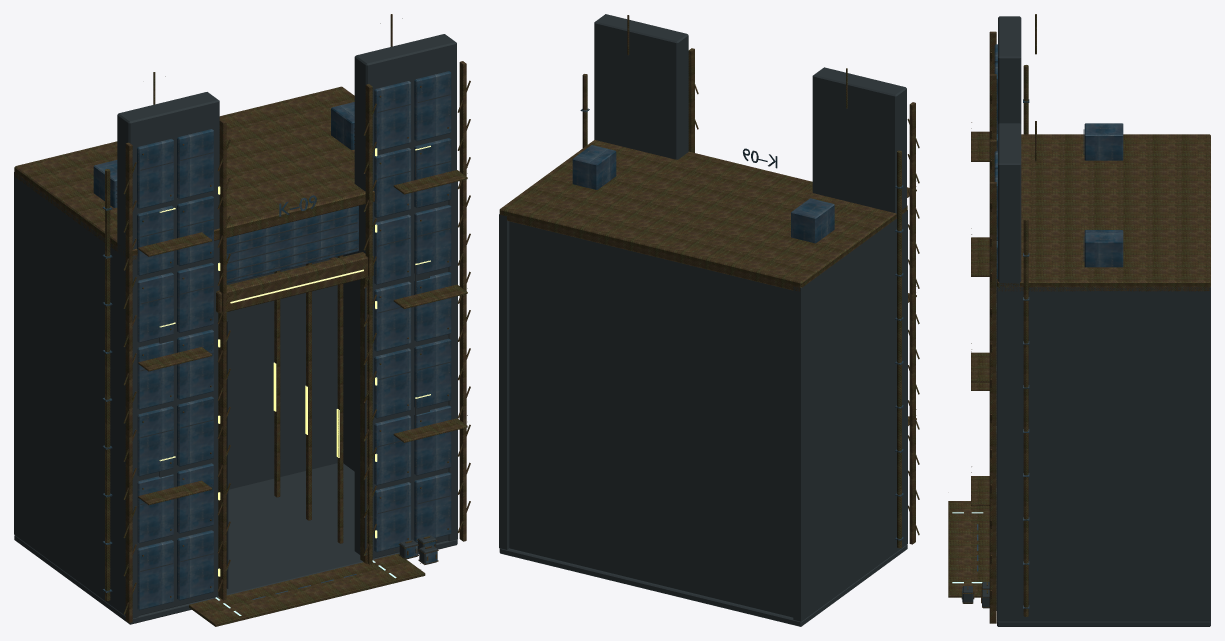
The model's file is Hangar_LOD1.fbx.
The picture shows the model from 3 angles, left to right: view 1: azimuth 30°, elevation 25°; view 2: azimuth 150°, elevation 25°; view 3: azimuth 270°, elevation 25°; orthographic projection. The views are drawn at different scales.
Visible parts, largest first — view 1: Hangar.001; view 2: Hangar.001; view 3: Hangar.001.
Part boxes in pixels (x1,y1,x2,y2): Hangar.001: (14,14,470,626); Hangar.001: (499,14,919,626); Hangar.001: (948,14,1210,626).
Size of the model in its own units: 38.1 by 27.05 by 55.13.
